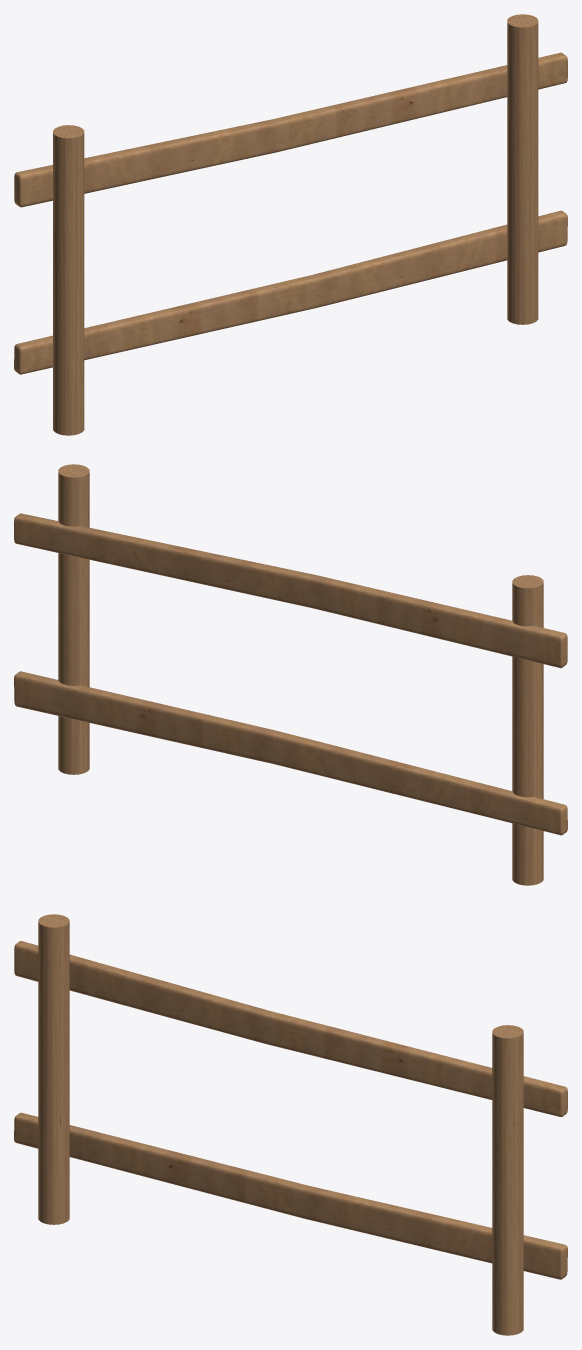
Rendered from Wooden_fences_2.fbx.
The picture shows the model from 3 angles, top to bottom: view 1: azimuth 30°, elevation 25°; view 2: azimuth 150°, elevation 25°; view 3: azimuth 330°, elevation 25°; orthographic projection.
Parts seen in each view (by area): view 1: Box003, Box002, Cylinder002, Cylinder003; view 2: Box003, Box002, Cylinder002, Cylinder003; view 3: Box002, Box003, Cylinder002, Cylinder003.
Part boxes in pixels (bbox=[...]): Box003: bbox=[14, 210, 567, 374]; Box002: bbox=[14, 52, 567, 207]; Cylinder002: bbox=[507, 14, 538, 324]; Cylinder003: bbox=[53, 125, 84, 435]; Box003: bbox=[14, 671, 567, 835]; Box002: bbox=[14, 513, 567, 668]; Cylinder002: bbox=[58, 464, 89, 774]; Cylinder003: bbox=[512, 575, 543, 885]; Box002: bbox=[14, 941, 567, 1116]; Box003: bbox=[14, 1112, 567, 1279]; Cylinder002: bbox=[492, 1025, 523, 1335]; Cylinder003: bbox=[38, 914, 69, 1224].
Size of the model in its own units: 217 by 112 by 12.66.
Materials: 1 (1 with a texture image).
